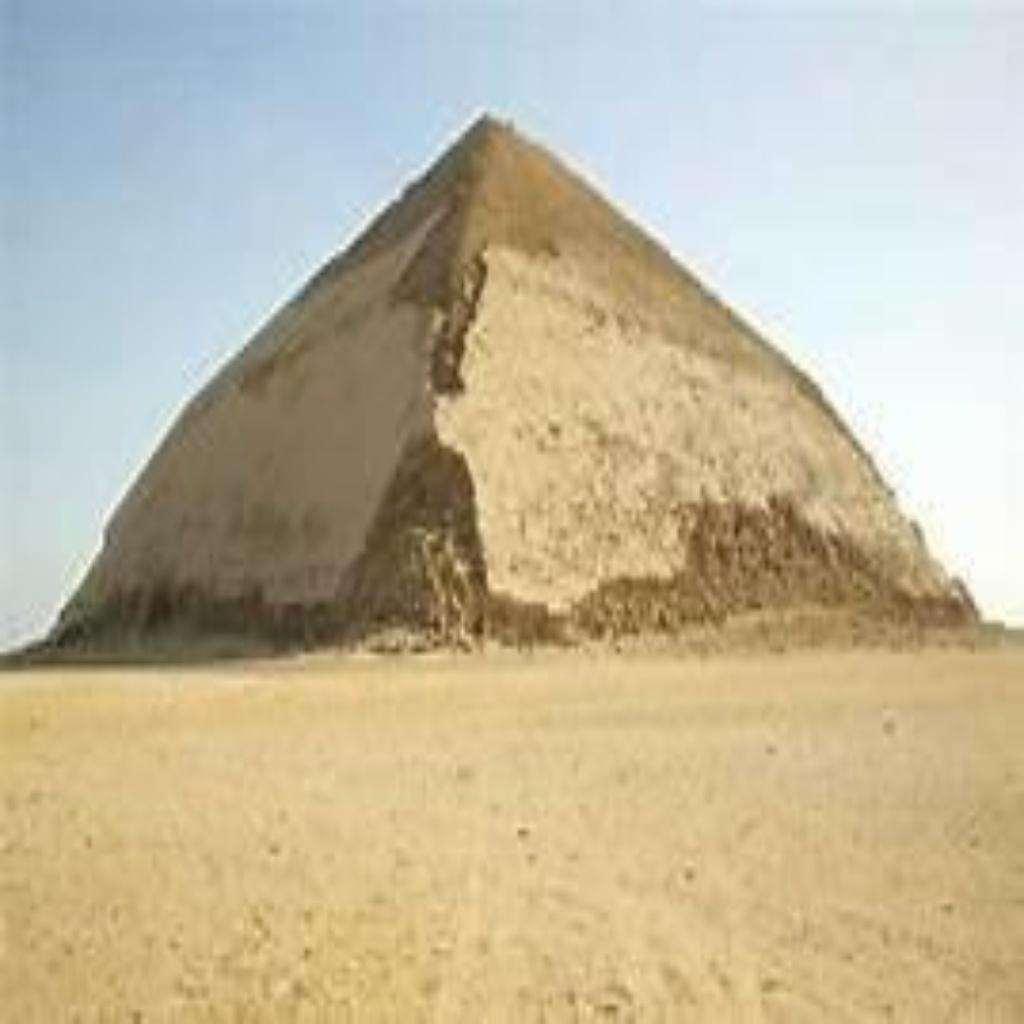Bent Pyramid of King Sneferu: (23, 100, 978, 660)
